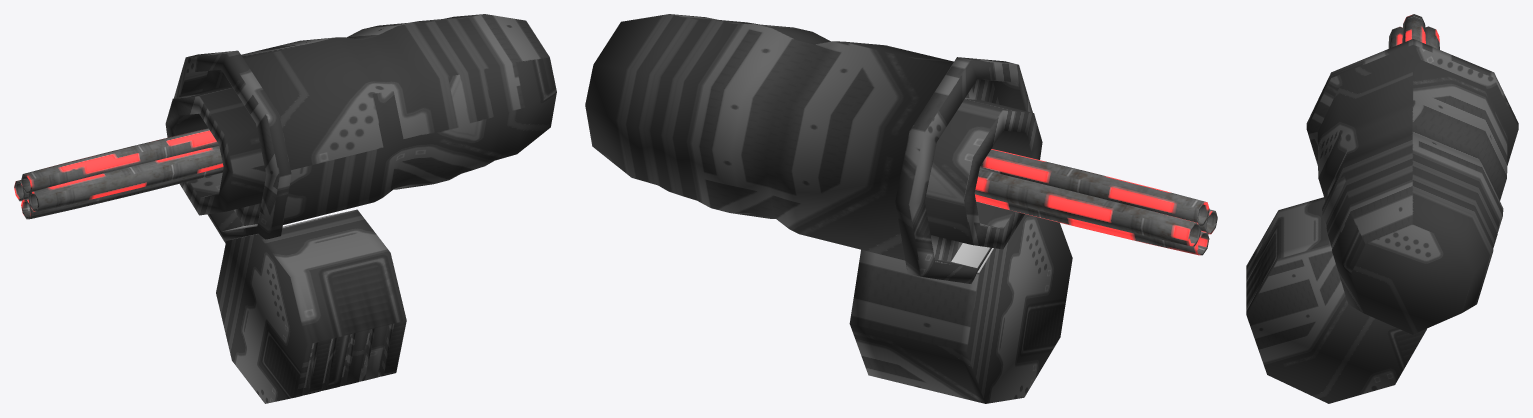
Rendered from Miniguntri.fbx.
3 renders of one model, left to right at view 1: azimuth 30°, elevation 25°; view 2: azimuth 150°, elevation 25°; view 3: azimuth 270°, elevation 25°, orthographic. The views are drawn at different scales.
Parts seen in each view (by area): view 1: Plane.015, Plane.017; view 2: Plane.015, Plane.017; view 3: Plane.015, Plane.017.
Boxes of the visible parts, bbox=[...] form: Plane.015: bbox=[165, 14, 556, 403]; Plane.017: bbox=[14, 128, 223, 219]; Plane.015: bbox=[585, 14, 1072, 403]; Plane.017: bbox=[974, 149, 1217, 255]; Plane.015: bbox=[1246, 39, 1518, 403]; Plane.017: bbox=[1388, 14, 1439, 49].
Size of the model in its own units: 211 by 129 by 100.
